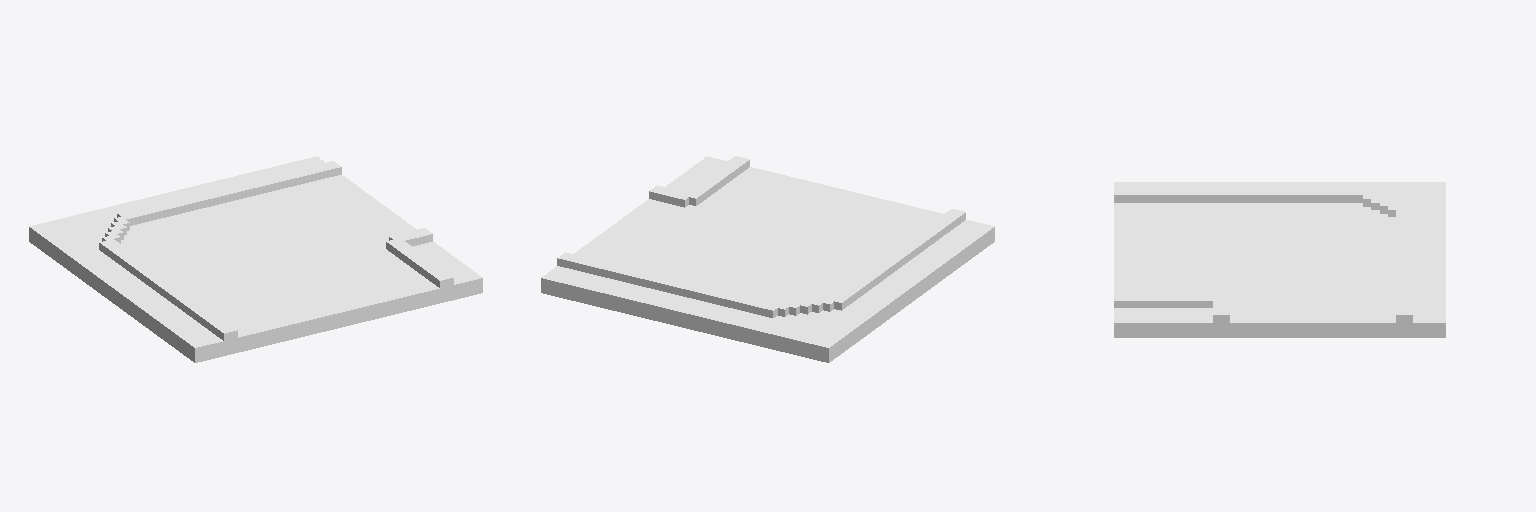
File: road_turn_right.obj
The picture shows the model from 3 angles: view 1: azimuth 30°, elevation 25°; view 2: azimuth 150°, elevation 25°; view 3: azimuth 270°, elevation 25°; orthographic projection.
Visible parts, largest first — view 1: object 1; view 2: object 1; view 3: object 1.
Part boxes in pixels (bbox=[...]): object 1: bbox=[29, 156, 482, 362]; object 1: bbox=[541, 156, 994, 362]; object 1: bbox=[1114, 182, 1445, 337].
Size of the model in its own units: 4 by 0.3 by 4.